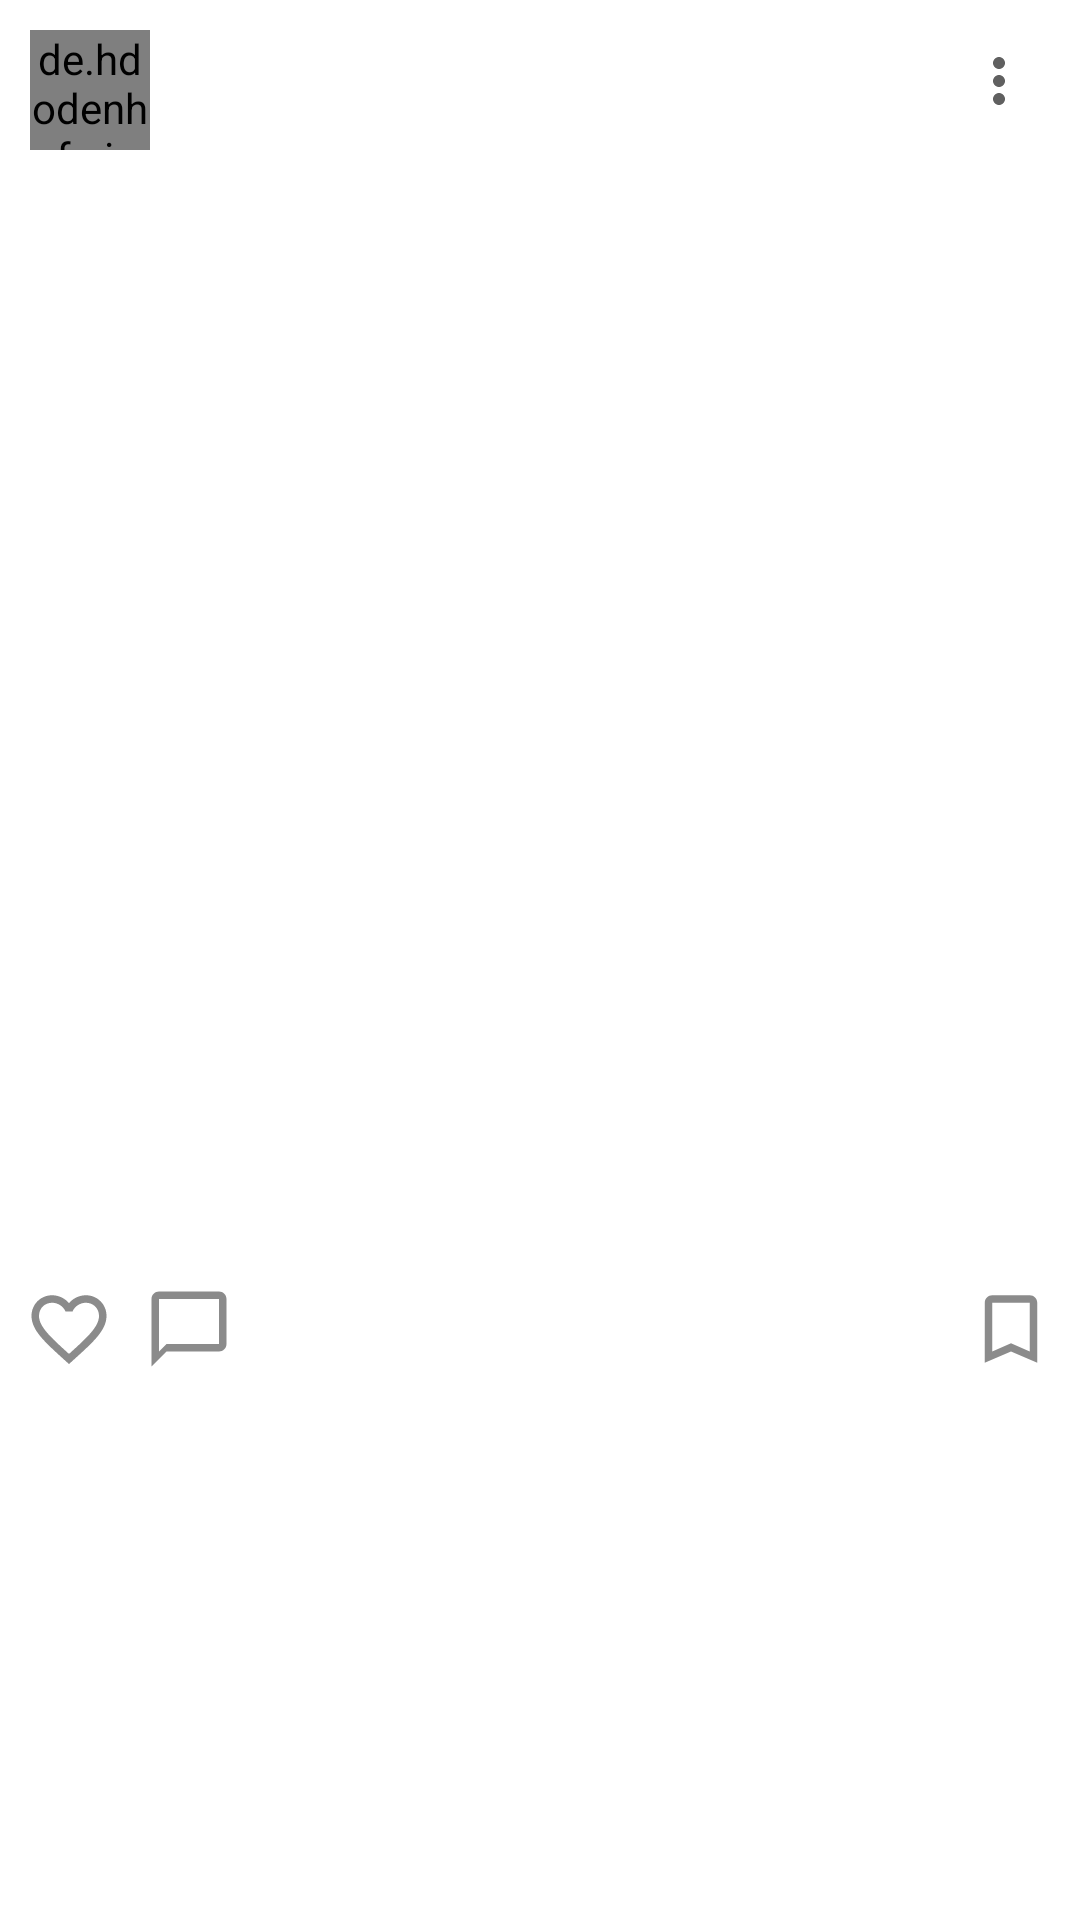

Locate icon controls on the screen. Image size 1080w x 1920h, boxes as (x1, y1, x2, y2).
comment: (151, 1291, 227, 1366)
like: (31, 1295, 107, 1364)
more: (993, 57, 1005, 105)
save: (984, 1295, 1038, 1363)
